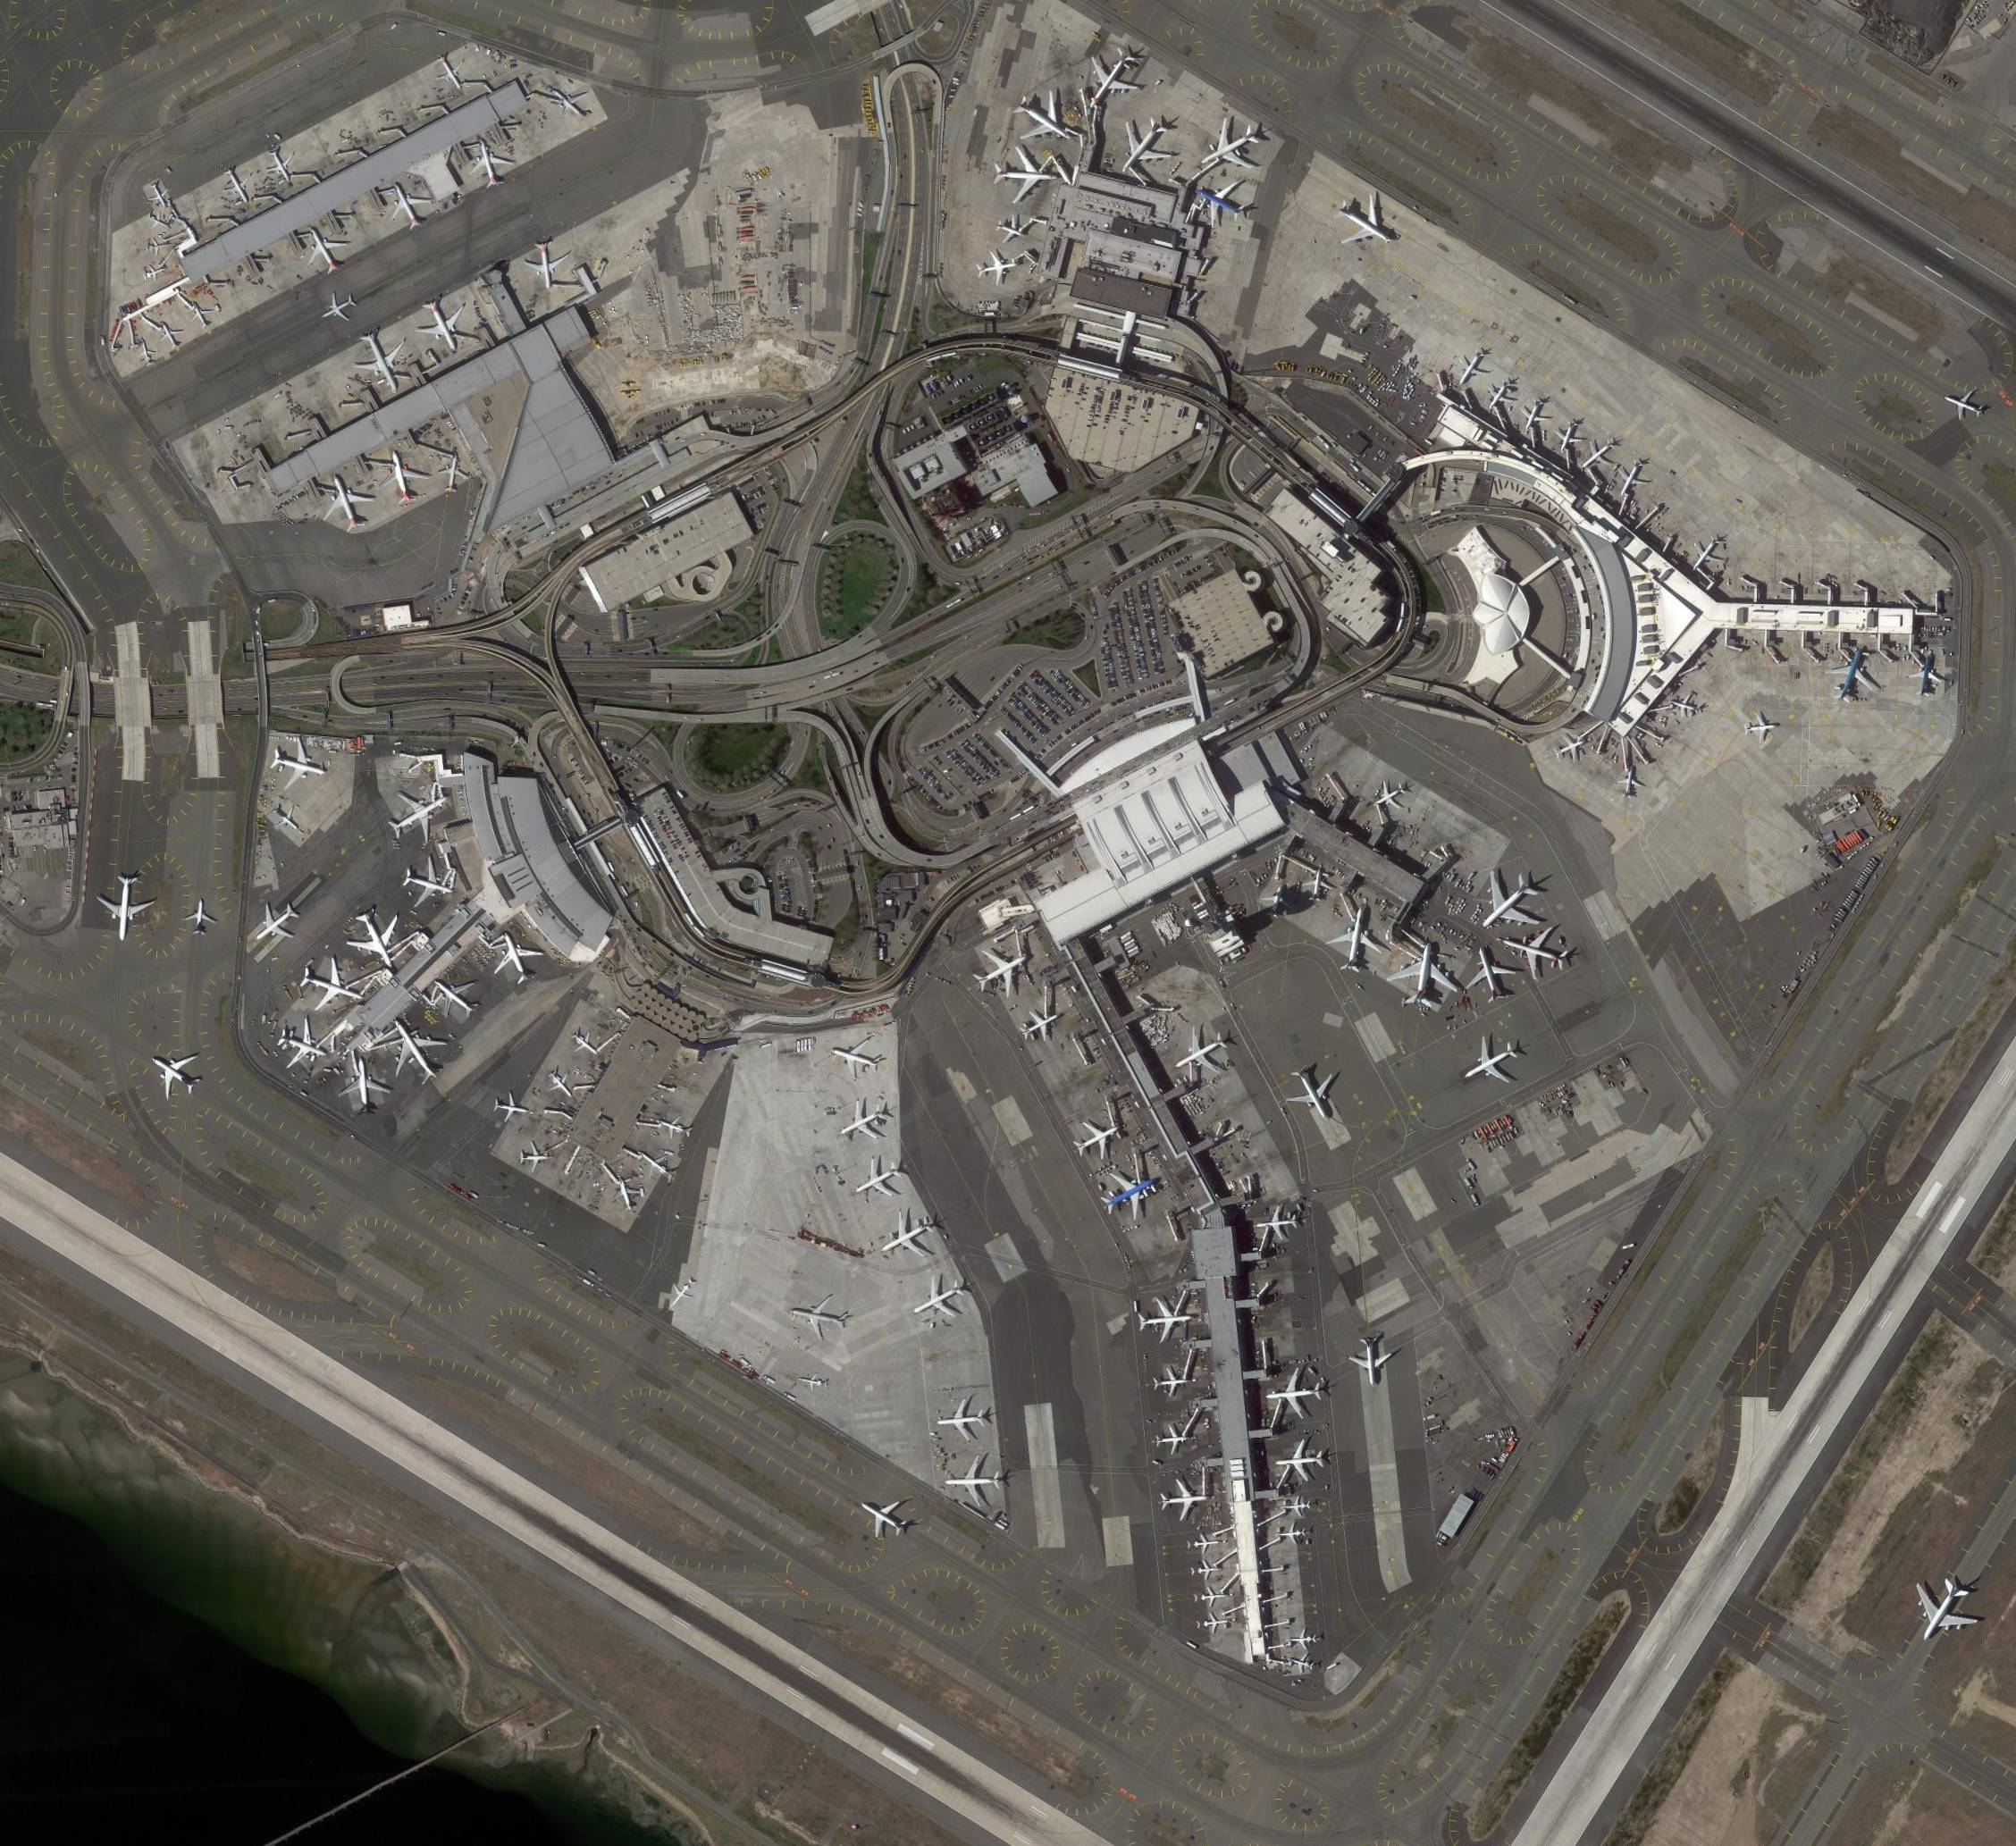plane: (1895, 1561, 1991, 1658), (1459, 857, 1558, 948), (372, 1003, 462, 1096), (1068, 37, 1154, 123), (1099, 105, 1185, 188), (1322, 181, 1403, 265), (999, 81, 1084, 162), (378, 775, 460, 855), (342, 320, 421, 402), (337, 899, 414, 980), (1496, 912, 1577, 989), (1191, 109, 1270, 186), (292, 948, 372, 1024), (1387, 936, 1463, 1013), (307, 465, 383, 541), (139, 1036, 212, 1110), (966, 933, 1041, 1005), (1452, 1028, 1528, 1100), (409, 288, 481, 362), (1092, 1157, 1166, 1229), (1324, 901, 1391, 978), (871, 1201, 945, 1270), (1185, 165, 1254, 239), (1278, 1057, 1347, 1129), (1166, 1019, 1236, 1087), (903, 1266, 973, 1333), (241, 891, 309, 957), (1459, 940, 1523, 1010), (399, 850, 464, 917), (272, 1013, 337, 1080), (485, 922, 548, 991), (95, 875, 158, 941), (267, 734, 332, 797), (423, 964, 488, 1028), (1819, 643, 1884, 706), (848, 1486, 915, 1547), (371, 446, 434, 509), (378, 172, 437, 237), (1068, 1108, 1129, 1168), (295, 220, 355, 279), (832, 1094, 894, 1152), (788, 1289, 852, 1345), (994, 148, 1057, 204), (335, 1056, 393, 1115), (460, 135, 518, 193), (850, 1152, 908, 1208), (829, 1031, 889, 1085), (1268, 1368, 1324, 1423), (1136, 1296, 1194, 1347), (544, 77, 597, 132), (948, 1454, 1003, 1507), (427, 49, 476, 98), (1447, 344, 1496, 393), (523, 241, 571, 290), (1573, 430, 1623, 478), (1684, 530, 1732, 580), (1275, 1439, 1326, 1484), (1017, 1001, 1064, 1049), (1477, 372, 1524, 420), (1607, 457, 1654, 504), (314, 286, 364, 332), (1347, 1337, 1393, 1386), (1364, 775, 1414, 820), (1159, 1477, 1208, 1523), (938, 1398, 987, 1442), (634, 1143, 681, 1187), (1940, 383, 1988, 427), (973, 246, 1020, 290), (218, 163, 262, 209), (1512, 393, 1556, 439), (1905, 653, 1948, 699), (260, 144, 304, 186), (662, 1272, 702, 1312), (1256, 1207, 1300, 1244), (567, 1024, 606, 1064), (1549, 416, 1588, 457), (608, 1173, 644, 1214), (543, 1064, 580, 1105), (1549, 729, 1589, 766), (437, 451, 471, 495), (269, 801, 306, 838), (493, 1089, 530, 1126), (992, 213, 1029, 249), (657, 1110, 695, 1143), (1259, 885, 1296, 919), (1152, 1366, 1189, 1400), (155, 318, 188, 353), (1742, 711, 1777, 745), (184, 899, 216, 936), (1301, 868, 1333, 903), (1156, 1424, 1191, 1456), (144, 177, 176, 211), (1668, 690, 1700, 722), (1616, 766, 1645, 799), (188, 300, 216, 332), (1287, 1649, 1319, 1677), (520, 1143, 550, 1172), (797, 1370, 831, 1395), (1187, 1532, 1220, 1556), (1194, 1584, 1226, 1609), (1277, 1523, 1308, 1547), (1196, 1612, 1229, 1635), (144, 209, 172, 234), (135, 339, 160, 367), (1289, 1628, 1319, 1651), (1191, 1560, 1222, 1581), (140, 262, 169, 285), (1284, 1496, 1312, 1519), (144, 235, 170, 258)
